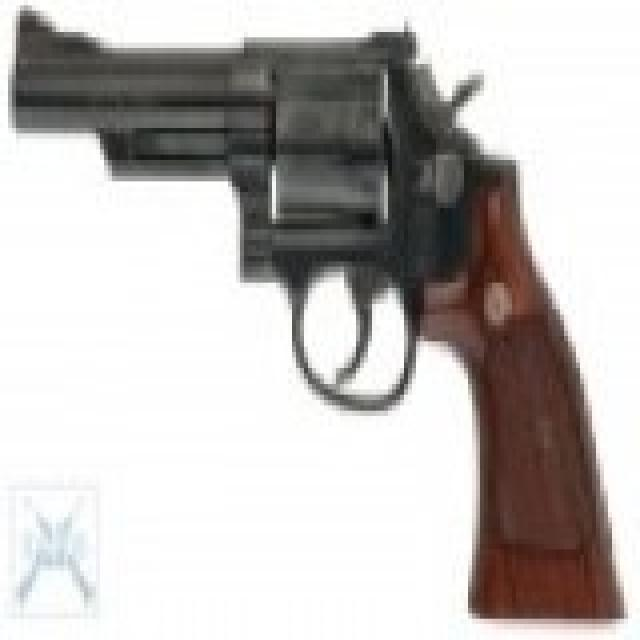weapon: (12, 5, 628, 624)
